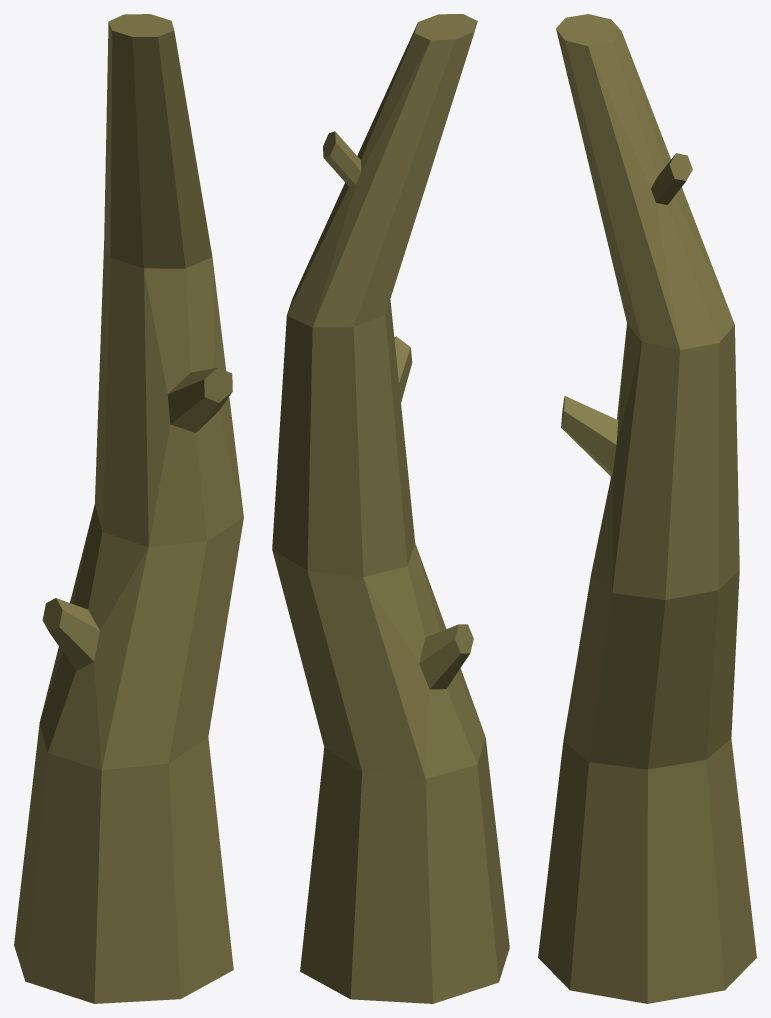
The model's file is Tree_Dead_Small.fbx.
The picture shows the model from 3 angles, left to right: view 1: azimuth 30°, elevation 25°; view 2: azimuth 150°, elevation 25°; view 3: azimuth 270°, elevation 25°; orthographic projection. The views are drawn at different scales.
Parts seen in each view (by area): view 1: Tree_DeadV1; view 2: Tree_DeadV1; view 3: Tree_DeadV1.
Boxes of the visible parts, <box> form: Tree_DeadV1: <box>14,14,243,1003</box>; Tree_DeadV1: <box>272,14,509,1003</box>; Tree_DeadV1: <box>538,14,756,1003</box>.
Size of the model in its own units: 1.77 by 7.37 by 1.58.
